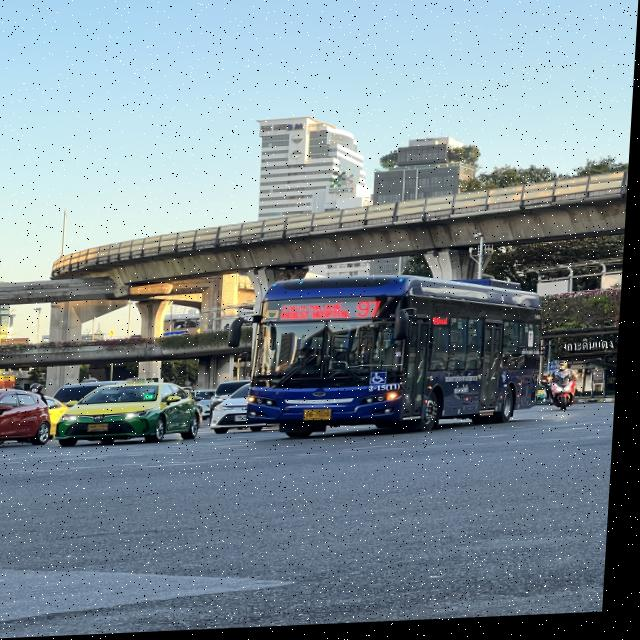Bus Line Number: (360, 300, 387, 323)
Bus Side Number: (372, 386, 409, 397)
Destination Sign: (279, 302, 359, 325)
TSB-Bus: (251, 280, 546, 441)
